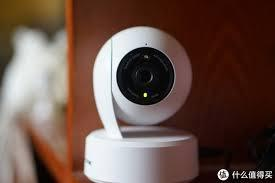maru: (86, 18, 208, 183)
